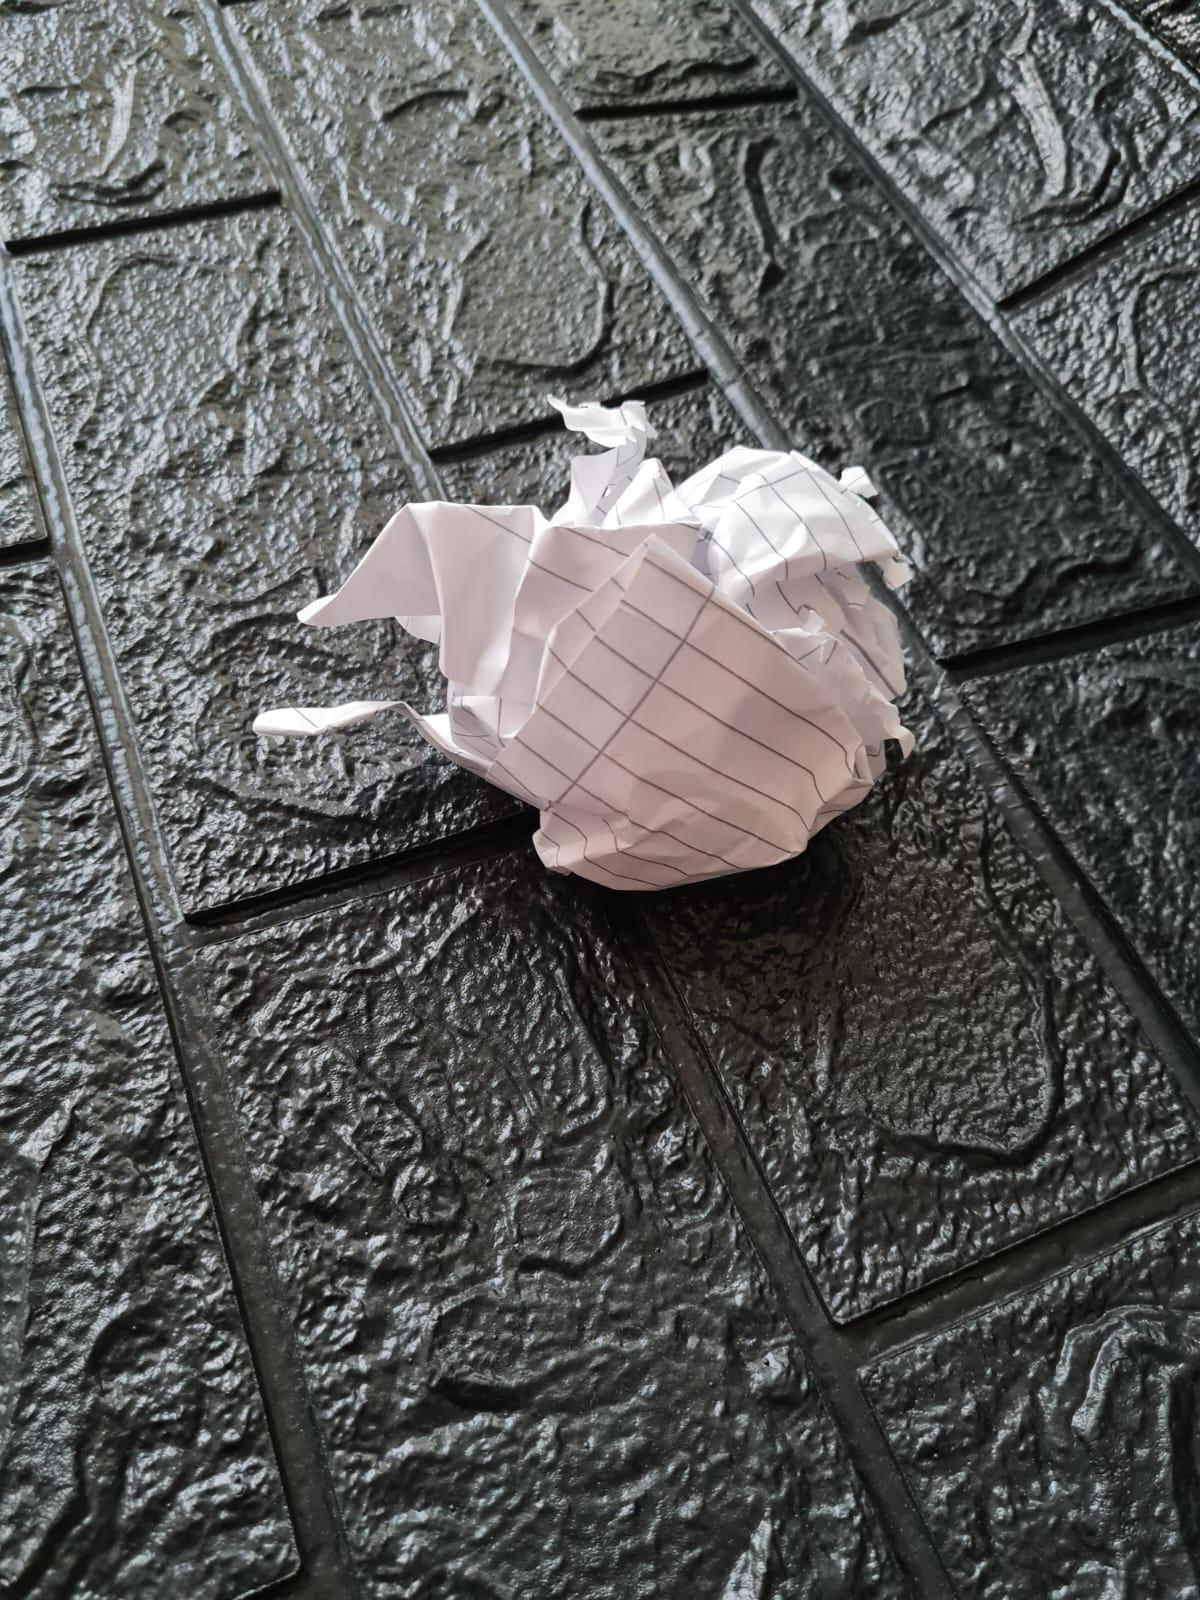Paper: (304, 407, 898, 874)
